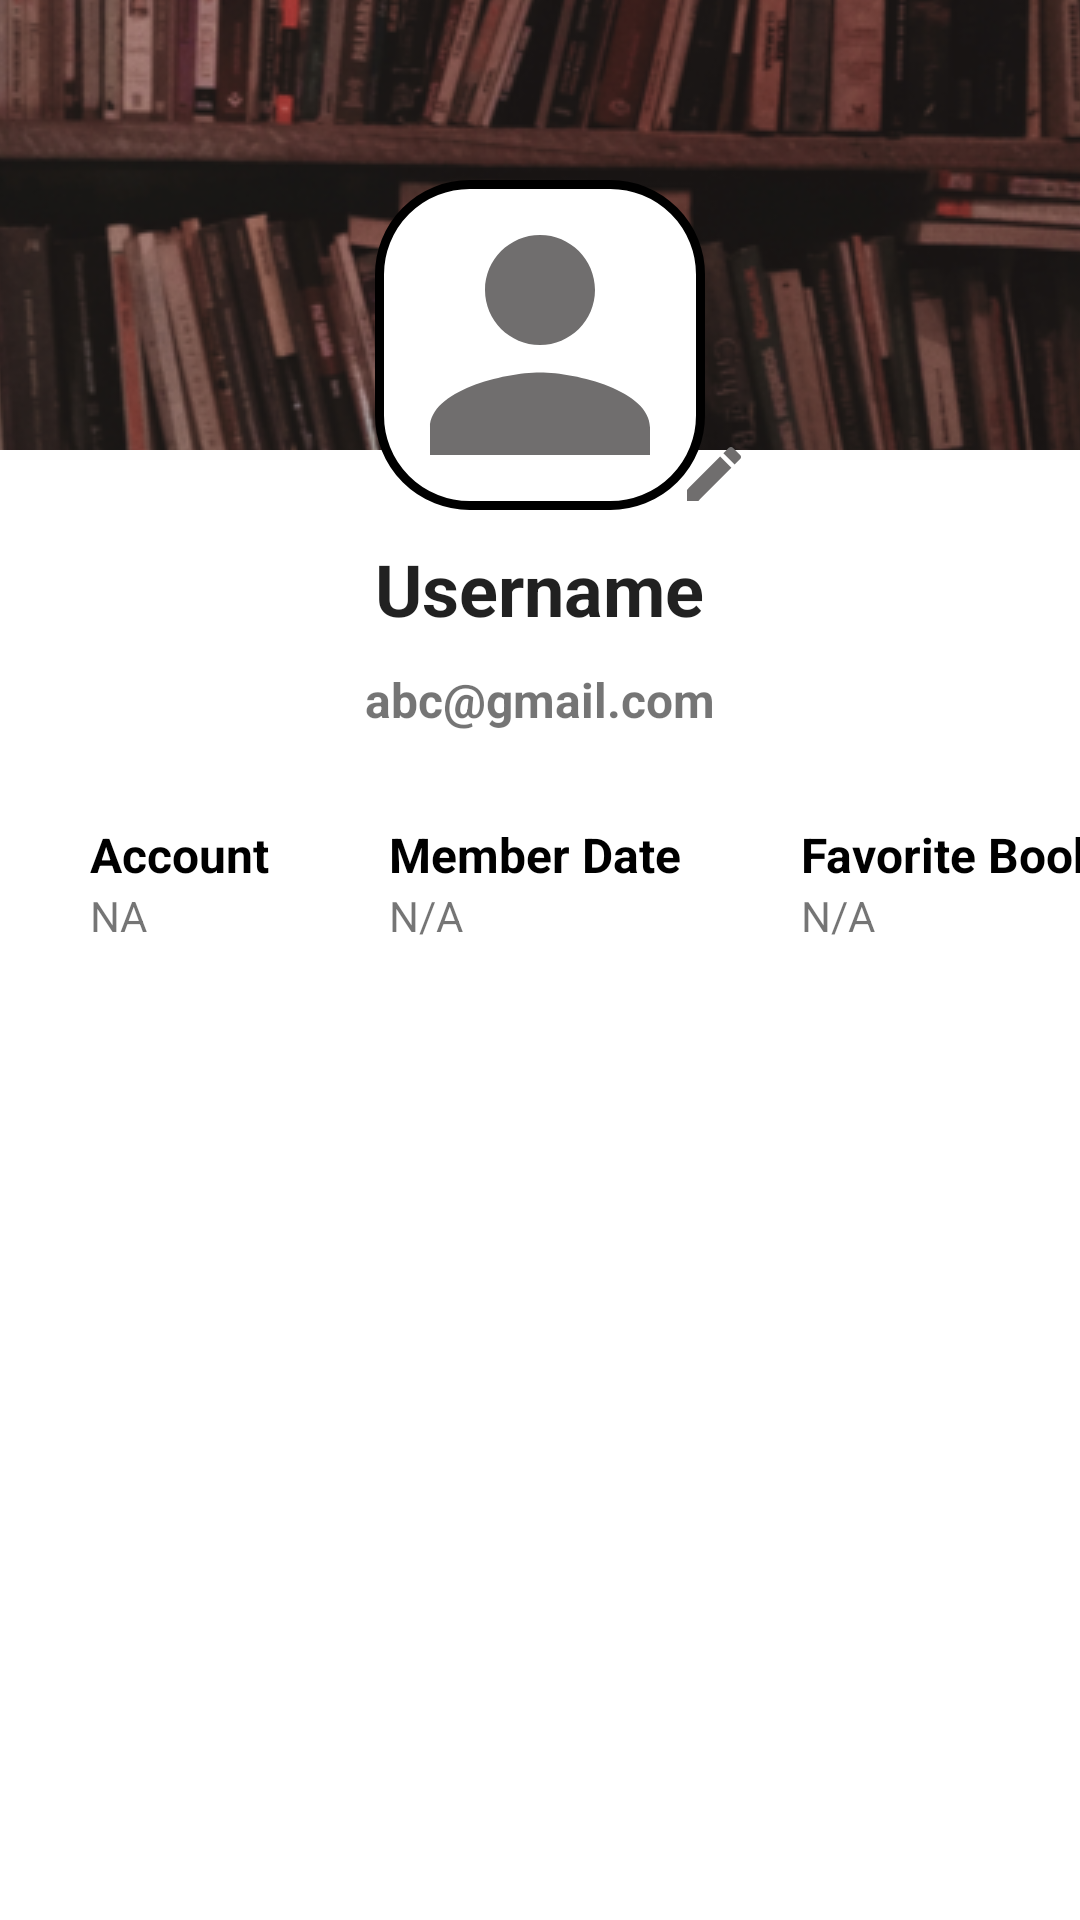

Point at icon controls on the screen. Image size 1080 × 1920, points as (x,y).
edit: (714,469)
person: (540,345)
